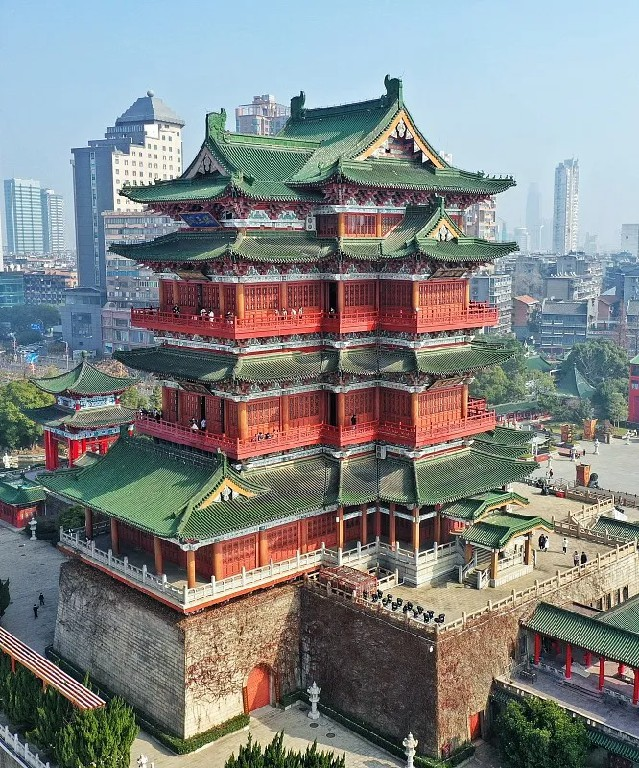Teng: (36, 73, 541, 583)
